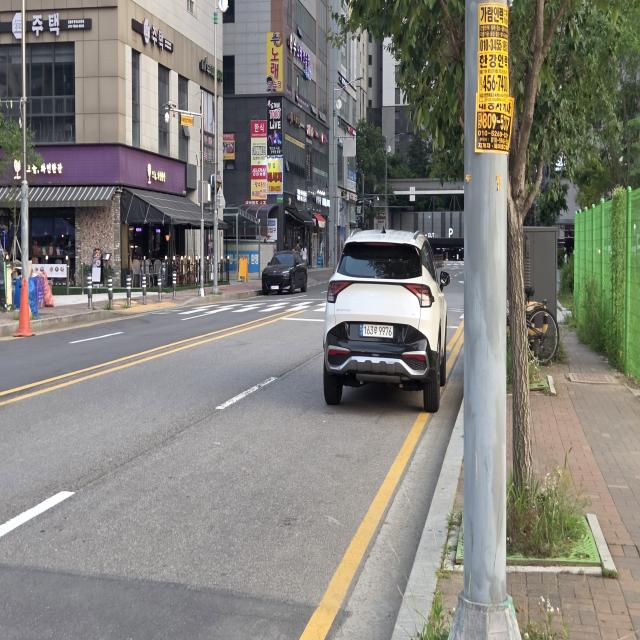car: (301, 194, 450, 455)
